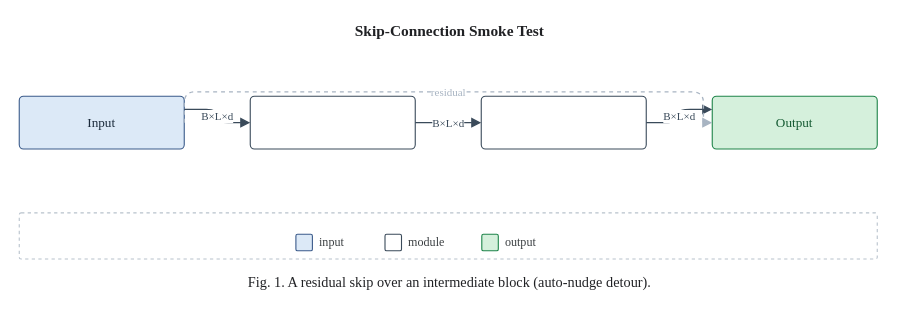
Image size: 899x310. Some labels were removed from this diagram. Each missing label, with the centre of its shape:
"Block A" goes at pixel 332 122.
"Block B" goes at pixel 563 122.
